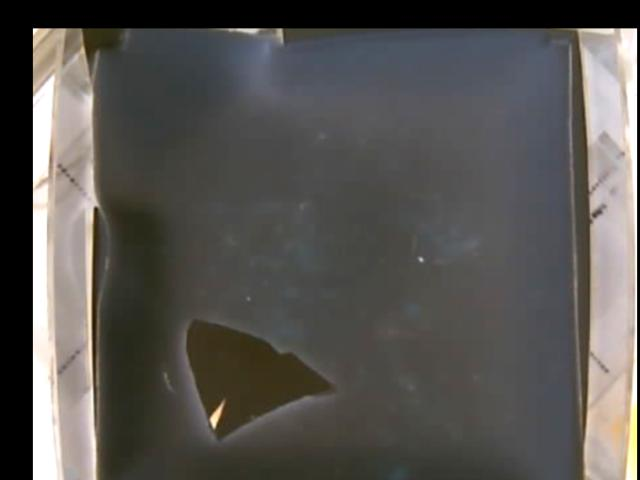China: (184, 317, 334, 441)
